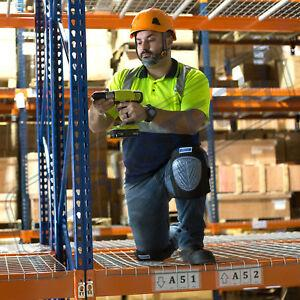helmet: (131, 10, 177, 35)
